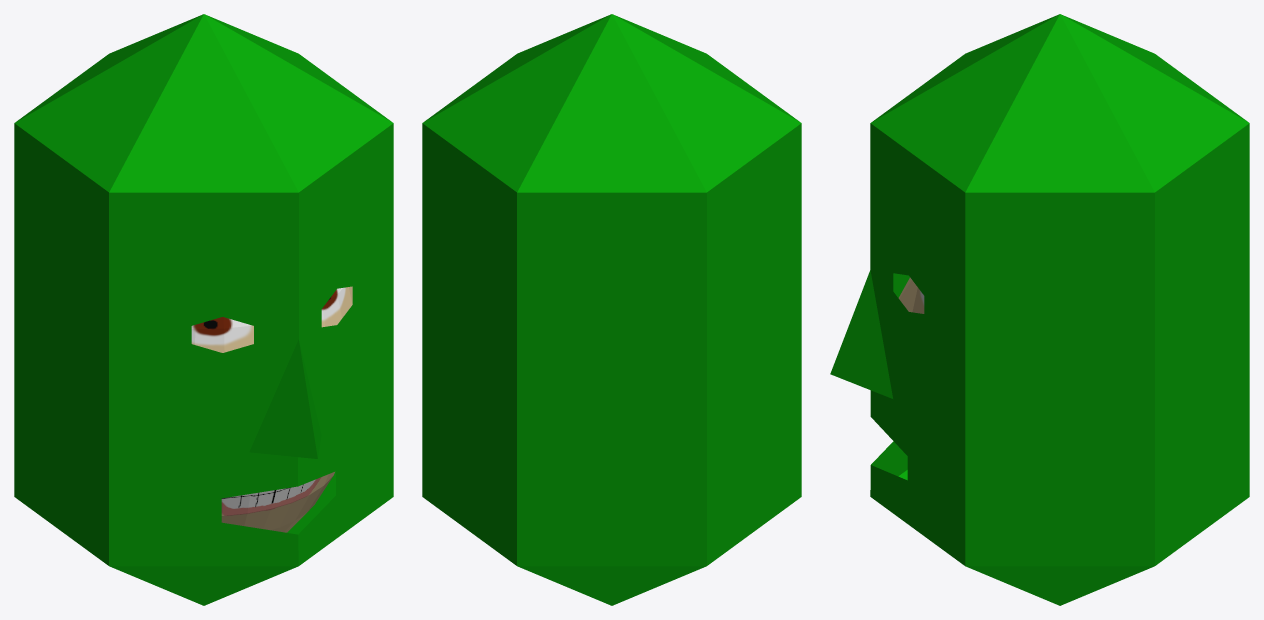
Rendered from droid-roar-face-rotating.glb.
3 renders of one model, left to right at view 1: azimuth 30°, elevation 25°; view 2: azimuth 150°, elevation 25°; view 3: azimuth 270°, elevation 25°, orthographic.
Visible parts, largest first — view 1: Mascara, Cara; view 2: Mascara; view 3: Mascara, Cara.
Part boxes in pixels (x1=…): Mascara: x1=14, y1=14, x2=393, y2=605; Cara: x1=191, y1=286, x2=352, y2=532; Mascara: x1=422, y1=14, x2=801, y2=605; Mascara: x1=830, y1=14, x2=1249, y2=605; Cara: x1=898, y1=277, x2=924, y2=313.
Size of the model in its own units: 1.99 by 3.96 by 2.54.
2 materials, 1 textured.
